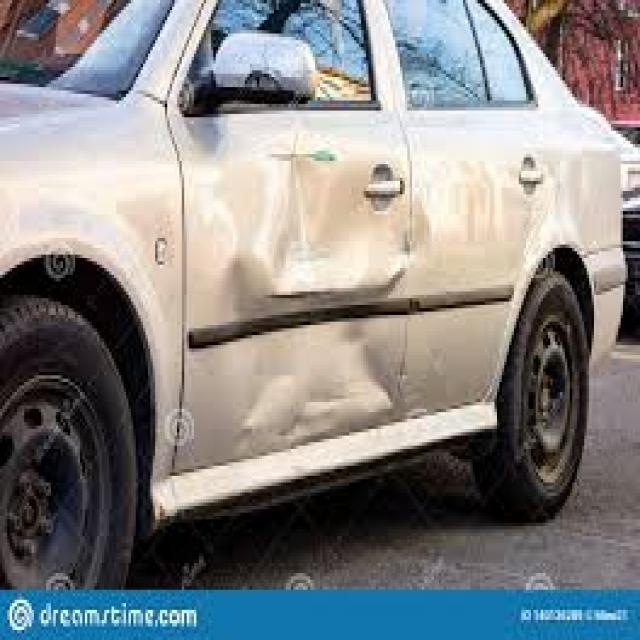damaged-door: (182, 0, 405, 483)
